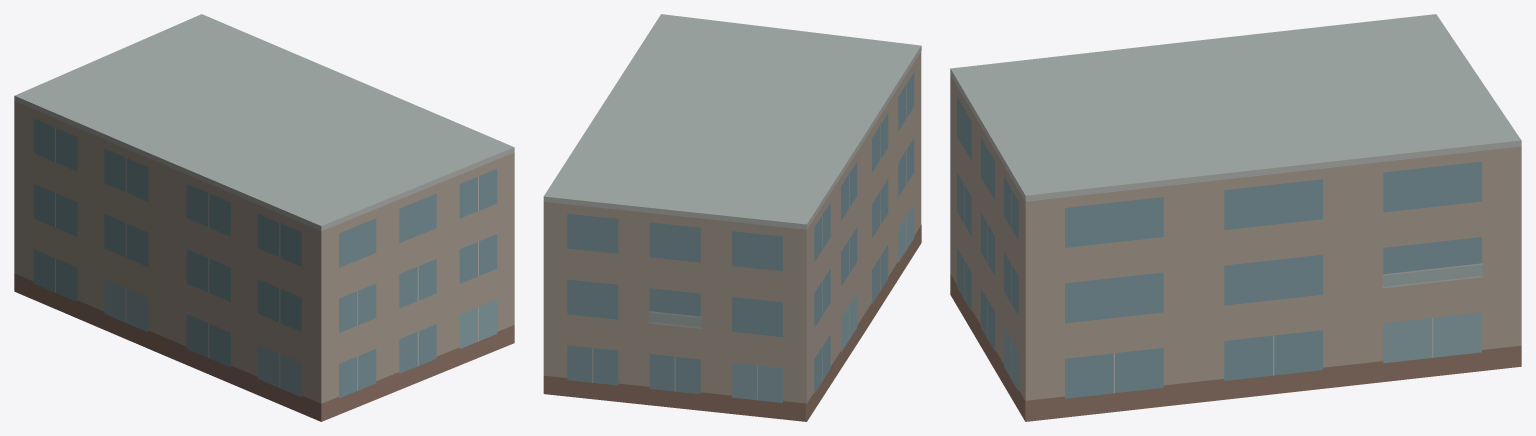
File: survey-upis-32473766.glb
The picture shows the model from 3 angles, left to right: view 1: azimuth 30°, elevation 25°; view 2: azimuth 150°, elevation 25°; view 3: azimuth 270°, elevation 25°; orthographic projection. The views are drawn at different scales.
Parts seen in each view (by area): view 1: survey-upis-32473766.tmp; view 2: survey-upis-32473766.tmp; view 3: survey-upis-32473766.tmp.
Boxes of the visible parts, box(x1,y1,x2,y2) form: survey-upis-32473766.tmp: box(14, 14, 514, 421); survey-upis-32473766.tmp: box(543, 14, 921, 421); survey-upis-32473766.tmp: box(950, 14, 1521, 421).
Bounding box in the file's own units: 15.77 × 9.15 × 20.95.
